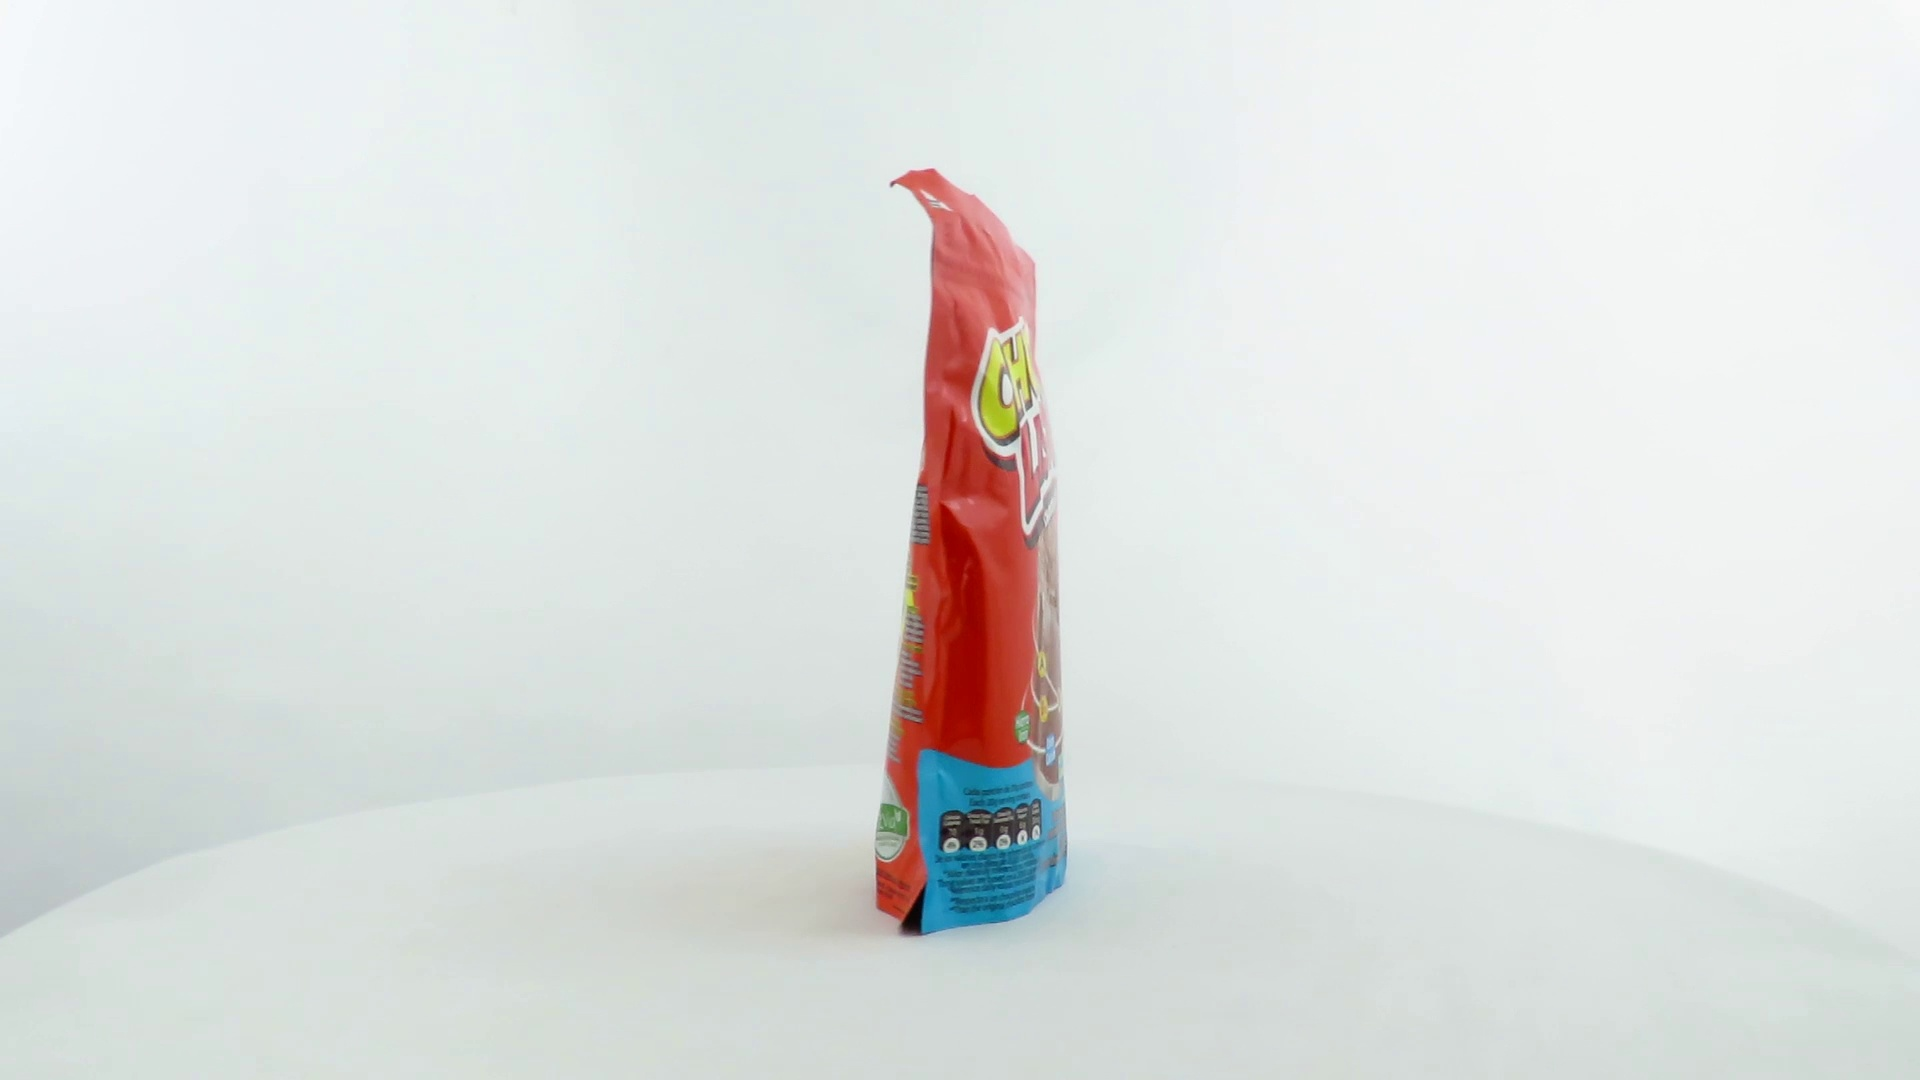COL0170104DYP20000: (869, 164, 1073, 944)
